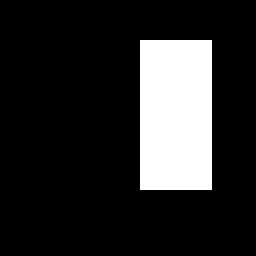person: (140, 40, 211, 189)
